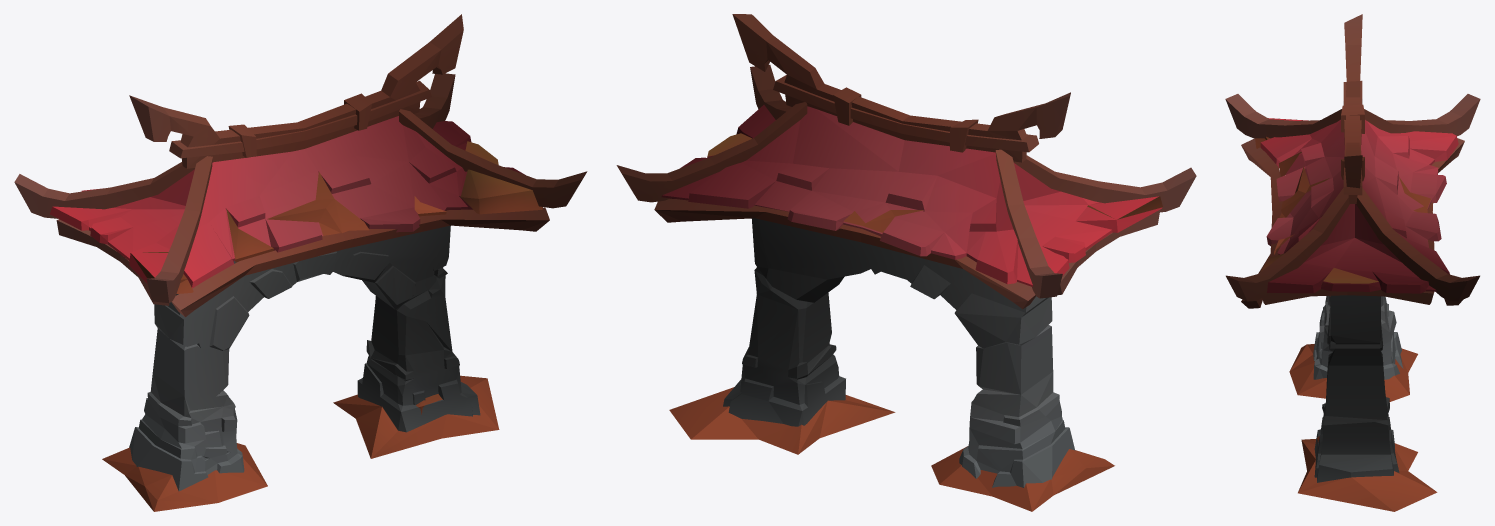
The model's file is Terrain_Door_1.fbx.
The picture shows the model from 3 angles, left to right: view 1: azimuth 30°, elevation 25°; view 2: azimuth 150°, elevation 25°; view 3: azimuth 270°, elevation 25°; orthographic projection. The views are drawn at different scales.
Visible parts, largest first — view 1: terrain_door_203_LOD0; view 2: terrain_door_203_LOD0; view 3: terrain_door_203_LOD0.
Part boxes in pixels (x1,y1,x2,y2): terrain_door_203_LOD0: [14, 14, 587, 511]; terrain_door_203_LOD0: [616, 14, 1196, 511]; terrain_door_203_LOD0: [1225, 14, 1480, 511].
Size of the model in its own units: 1628 by 1370 by 938.
Materials: 1 (1 with a texture image).
